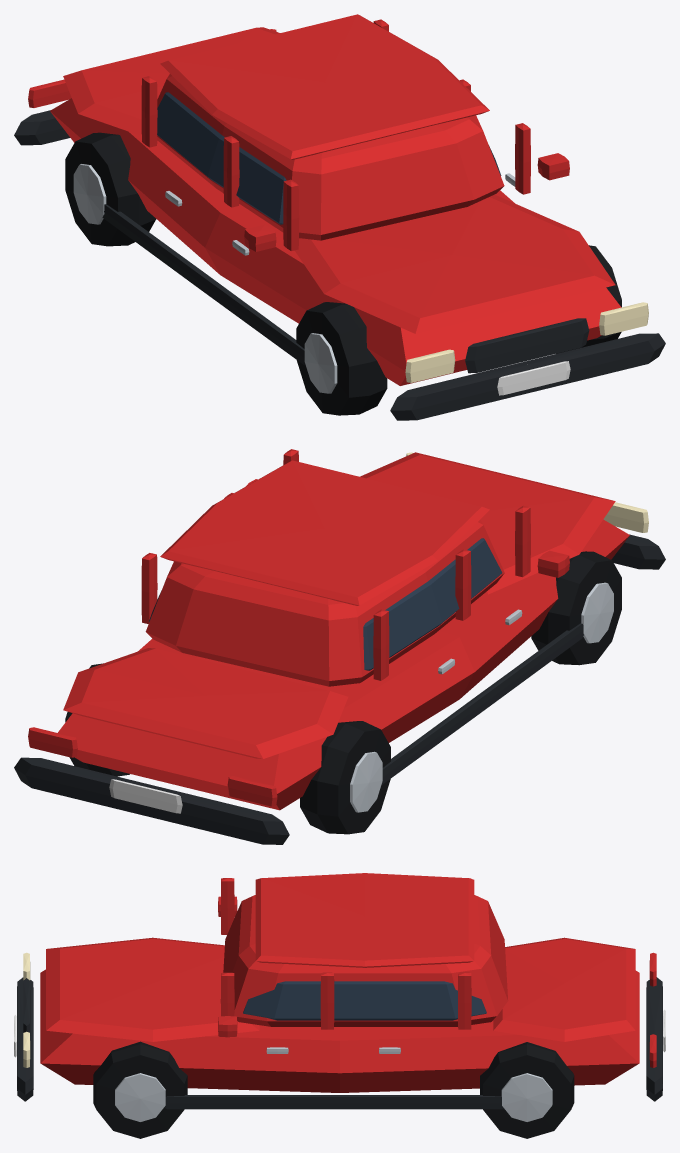
The model's file is s-car-1.glb.
3 renders of one model, top to bottom at view 1: azimuth 30°, elevation 25°; view 2: azimuth 150°, elevation 25°; view 3: azimuth 270°, elevation 25°, orthographic. The views are drawn at different scales.
Visible parts, largest first — view 1: p; view 2: p; view 3: p.
Part boxes in pixels (<box>): p: <box>14,14,665,420</box>; p: <box>14,449,665,844</box>; p: <box>14,873,665,1138</box>.
Size of the model in its own units: 2.16 by 1.32 by 4.6.
